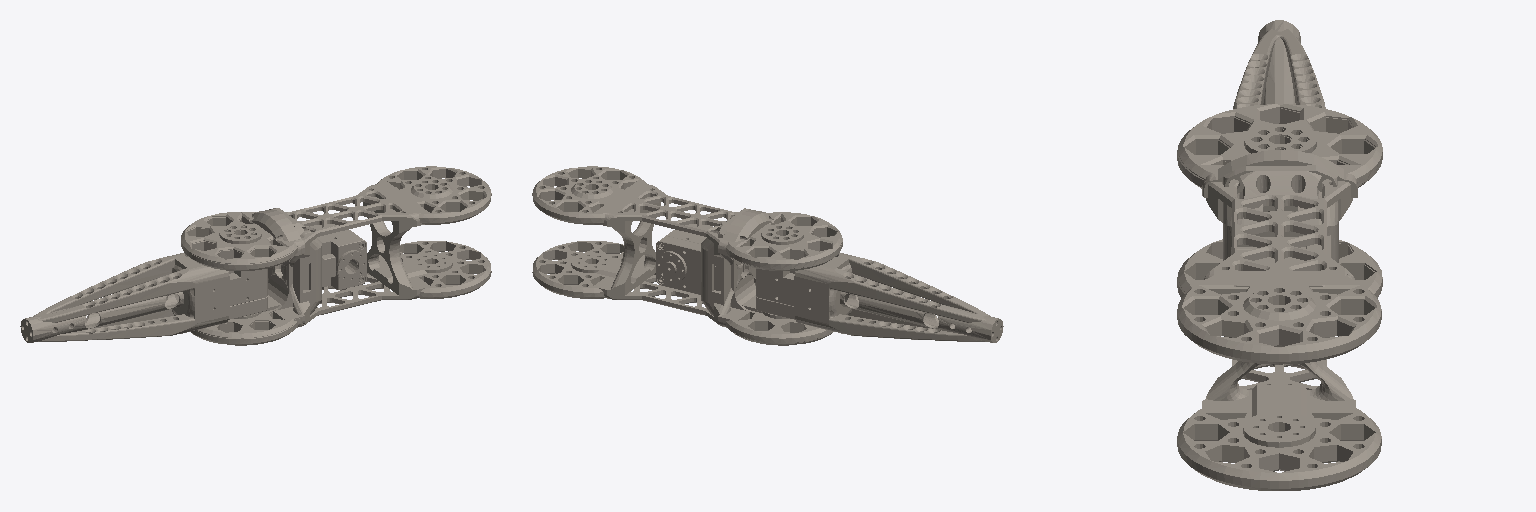
The robot description file, URDF, robot "Moonbot_1_urdf":
<?xml version="1.0" encoding="utf-8"?>

<robot
  name="Moonbot_1_urdf"
  xmlns:xacro="http://www.ros.org/wiki/xacro">
  <link
    name="base_link">
    <inertial>
      <origin
        xyz="4.4525E-06 -1.372E-05 0.015651"
        rpy="0 0 0" />
      <mass
        value="1.7613" />
      <inertia
        ixx="0.0022157"
        ixy="1.9729E-07"
        ixz="6.2687E-11"
        iyy="0.0022117"
        iyz="-1.9316E-10"
        izz="0.0037074" />
    </inertial>
    <visual>
      <origin
        xyz="0 0 0"
        rpy="0 0 0" />
      <geometry>
        <mesh
          filename="package://rviz_custom/base_link.STL" />
      </geometry>
      <material
        name="">
        <color
          rgba="0.64706 0.61961 0.58431 1" />
      </material>
    </visual>
    <collision>
      <origin
        xyz="0 0 0"
        rpy="0 0 0" />
      <geometry>
        <mesh
          filename="package://rviz_custom/base_link.STL" />
      </geometry>
    </collision>
  </link>
  <link
    name="Leg1_Link1">
    <inertial>
      <origin
        xyz="-0.16164 -0.16206 0.0078727"
        rpy="0 0 0" />
      <mass
        value="0.19524" />
      <inertia
        ixx="0.00013212"
        ixy="-2.569E-05"
        ixz="3.8551E-10"
        iyy="0.00013211"
        iyz="4.1271E-10"
        izz="0.00012874" />
    </inertial>
    <visual>
      <origin
        xyz="0 0 0"
        rpy="0 0 0" />
      <geometry>
        <mesh
          filename="package://rviz_custom/Leg1_Link1.STL" />
      </geometry>
      <material
        name="">
        <color
          rgba="0.64706 0.61961 0.58431 1" />
      </material>
    </visual>
    <collision>
      <origin
        xyz="0 0 0"
        rpy="0 0 0" />
      <geometry>
        <mesh
          filename="package://rviz_custom/Leg1_Link1.STL" />
      </geometry>
    </collision>
  </link>
  <joint
    name="Leg1_Joint1"
    type="revolute">
    <origin
      xyz="0 0 0"
      rpy="0 0 0" />
    <parent
      link="base_link" />
    <child
      link="Leg1_Link1" />
    <axis
      xyz="0 0 -1" />
    <limit
      lower="-1.57"
      upper="1.57"
      effort="200"
      velocity="3" />
  </joint>
  <link
    name="Leg1_Link2">
    <inertial>
      <origin
        xyz="-0.20029 -0.19993 -0.0487"
        rpy="0 0 0" />
      <mass
        value="0.2225" />
      <inertia
        ixx="0.00024185"
        ixy="1.6469E-05"
        ixz="2.7889E-10"
        iyy="0.00024185"
        iyz="-2.7889E-10"
        izz="0.00016006" />
    </inertial>
    <visual>
      <origin
        xyz="0 0 0"
        rpy="0 0 0" />
      <geometry>
        <mesh
          filename="package://rviz_custom/Leg1_Link2.STL" />
      </geometry>
      <material
        name="">
        <color
          rgba="0.64706 0.61961 0.58431 1" />
      </material>
    </visual>
    <collision>
      <origin
        xyz="0 0 0"
        rpy="0 0 0" />
      <geometry>
        <mesh
          filename="package://rviz_custom/Leg1_Link2.STL" />
      </geometry>
    </collision>
  </link>
  <joint
    name="Leg1_Joint2"
    type="revolute">
    <origin
      xyz="0 0 0"
      rpy="0 0 0" />
    <parent
      link="Leg1_Link1" />
    <child
      link="Leg1_Link2" />
    <axis
      xyz="0.70711 -0.70711 0" />
    <limit
      lower="-1.57"
      upper="1.57"
      effort="200"
      velocity="3" />
  </joint>
  <link
    name="Leg1_Link3">
    <inertial>
      <origin
        xyz="-0.19985 -0.20037 -0.14553"
        rpy="0 0 0" />
      <mass
        value="0.14207" />
      <inertia
        ixx="4.5915E-05"
        ixy="-5.5477E-06"
        ixz="-6.9185E-10"
        iyy="4.5915E-05"
        iyz="1.1922E-09"
        izz="5.1594E-05" />
    </inertial>
    <visual>
      <origin
        xyz="0 0 0"
        rpy="0 0 0" />
      <geometry>
        <mesh
          filename="package://rviz_custom/Leg1_Link3.STL" />
      </geometry>
      <material
        name="">
        <color
          rgba="0.64706 0.61961 0.58431 1" />
      </material>
    </visual>
    <collision>
      <origin
        xyz="0 0 0"
        rpy="0 0 0" />
      <geometry>
        <mesh
          filename="package://rviz_custom/Leg1_Link3.STL" />
      </geometry>
    </collision>
  </link>
  <joint
    name="Leg1_Joint3"
    type="revolute">
    <origin
      xyz="0 0 0"
      rpy="0 0 0" />
    <parent
      link="Leg1_Link2" />
    <child
      link="Leg1_Link3" />
    <axis
      xyz="0.70711 -0.70711 0" />
    <limit
      lower="-1.57"
      upper="1.57"
      effort="200"
      velocity="3" />
  </joint>
  <link
    name="Leg2_Link1">
    <inertial>
      <origin
        xyz="-0.16206 0.16164 0.0078727"
        rpy="0 0 0" />
      <mass
        value="0.19524" />
      <inertia
        ixx="0.00013211"
        ixy="2.569E-05"
        ixz="4.1271E-10"
        iyy="0.00013212"
        iyz="-3.8551E-10"
        izz="0.00012874" />
    </inertial>
    <visual>
      <origin
        xyz="0 0 0"
        rpy="0 0 0" />
      <geometry>
        <mesh
          filename="package://rviz_custom/Leg2_Link1.STL" />
      </geometry>
      <material
        name="">
        <color
          rgba="0.64706 0.61961 0.58431 1" />
      </material>
    </visual>
    <collision>
      <origin
        xyz="0 0 0"
        rpy="0 0 0" />
      <geometry>
        <mesh
          filename="package://rviz_custom/Leg2_Link1.STL" />
      </geometry>
    </collision>
  </link>
  <joint
    name="Leg2_Joint1"
    type="revolute">
    <origin
      xyz="0 0 0"
      rpy="0 0 0" />
    <parent
      link="base_link" />
    <child
      link="Leg2_Link1" />
    <axis
      xyz="0 0 -1" />
    <limit
      lower="-1.57"
      upper="1.57"
      effort="200"
      velocity="3" />
  </joint>
  <link
    name="Leg2_Link2">
    <inertial>
      <origin
        xyz="-0.19993 0.20029 -0.0487"
        rpy="0 0 0" />
      <mass
        value="0.2225" />
      <inertia
        ixx="0.00024185"
        ixy="-1.6469E-05"
        ixz="-3.0519E-10"
        iyy="0.00024185"
        iyz="3.0519E-10"
        izz="0.00016006" />
    </inertial>
    <visual>
      <origin
        xyz="0 0 0"
        rpy="0 0 0" />
      <geometry>
        <mesh
          filename="package://rviz_custom/Leg2_Link2.STL" />
      </geometry>
      <material
        name="">
        <color
          rgba="0.64706 0.61961 0.58431 1" />
      </material>
    </visual>
    <collision>
      <origin
        xyz="0 0 0"
        rpy="0 0 0" />
      <geometry>
        <mesh
          filename="package://rviz_custom/Leg2_Link2.STL" />
      </geometry>
    </collision>
  </link>
  <joint
    name="Leg2_Joint2"
    type="revolute">
    <origin
      xyz="0 0 0"
      rpy="0 0 0" />
    <parent
      link="Leg2_Link1" />
    <child
      link="Leg2_Link2" />
    <axis
      xyz="0.70711 0.70711 0" />
    <limit
      lower="-1.57"
      upper="1.57"
      effort="200"
      velocity="3" />
  </joint>
  <link
    name="Leg2_Link3">
    <inertial>
      <origin
        xyz="-0.20037 0.19985 -0.14553"
        rpy="0 0 0" />
      <mass
        value="0.14207" />
      <inertia
        ixx="4.5915E-05"
        ixy="5.5477E-06"
        ixz="1.1923E-09"
        iyy="4.5915E-05"
        iyz="6.9184E-10"
        izz="5.1594E-05" />
    </inertial>
    <visual>
      <origin
        xyz="0 0 0"
        rpy="0 0 0" />
      <geometry>
        <mesh
          filename="package://rviz_custom/Leg2_Link3.STL" />
      </geometry>
      <material
        name="">
        <color
          rgba="0.64706 0.61961 0.58431 1" />
      </material>
    </visual>
    <collision>
      <origin
        xyz="0 0 0"
        rpy="0 0 0" />
      <geometry>
        <mesh
          filename="package://rviz_custom/Leg2_Link3.STL" />
      </geometry>
    </collision>
  </link>
  <joint
    name="Leg2_joint3"
    type="revolute">
    <origin
      xyz="0 0 0"
      rpy="0 0 0" />
    <parent
      link="Leg2_Link2" />
    <child
      link="Leg2_Link3" />
    <axis
      xyz="0.70711 0.70711 0" />
    <limit
      lower="-1.57"
      upper="1.57"
      effort="200"
      velocity="3" />
  </joint>
  <link
    name="Leg3_Link1">
    <inertial>
      <origin
        xyz="0.16181 -0.16189 0.0078731"
        rpy="0 0 0" />
      <mass
        value="0.19524" />
      <inertia
        ixx="0.00013212"
        ixy="2.569E-05"
        ixz="3.8551E-10"
        iyy="0.00013211"
        iyz="-4.1271E-10"
        izz="0.00012874" />
    </inertial>
    <visual>
      <origin
        xyz="0 0 0"
        rpy="0 0 0" />
      <geometry>
        <mesh
          filename="package://rviz_custom/Leg3_Link1.STL" />
      </geometry>
      <material
        name="">
        <color
          rgba="0.64706 0.61961 0.58431 1" />
      </material>
    </visual>
    <collision>
      <origin
        xyz="0 0 0"
        rpy="0 0 0" />
      <geometry>
        <mesh
          filename="package://rviz_custom/Leg3_Link1.STL" />
      </geometry>
    </collision>
  </link>
  <joint
    name="Leg3_Joint1"
    type="revolute">
    <origin
      xyz="0 0 0"
      rpy="0 0 0" />
    <parent
      link="base_link" />
    <child
      link="Leg3_Link1" />
    <axis
      xyz="0 0 -1" />
    <limit
      lower="-1.57"
      upper="1.57"
      effort="200"
      velocity="3" />
  </joint>
  <link
    name="Leg3_Link2">
    <inertial>
      <origin
        xyz="0.20046 -0.19976 -0.0487"
        rpy="0 0 0" />
      <mass
        value="0.2225" />
      <inertia
        ixx="0.00024185"
        ixy="-1.6469E-05"
        ixz="-3.0519E-10"
        iyy="0.00024185"
        iyz="3.0519E-10"
        izz="0.00016006" />
    </inertial>
    <visual>
      <origin
        xyz="0 0 0"
        rpy="0 0 0" />
      <geometry>
        <mesh
          filename="package://rviz_custom/Leg3_Link2.STL" />
      </geometry>
      <material
        name="">
        <color
          rgba="0.64706 0.61961 0.58431 1" />
      </material>
    </visual>
    <collision>
      <origin
        xyz="0 0 0"
        rpy="0 0 0" />
      <geometry>
        <mesh
          filename="package://rviz_custom/Leg3_Link2.STL" />
      </geometry>
    </collision>
  </link>
  <joint
    name="Leg3_Joint2"
    type="revolute">
    <origin
      xyz="0 0 0"
      rpy="0 0 0" />
    <parent
      link="Leg3_Link1" />
    <child
      link="Leg3_Link2" />
    <axis
      xyz="0.70711 0.70711 0" />
    <limit
      lower="-1.57"
      upper="1.57"
      effort="200"
      velocity="3" />
  </joint>
  <link
    name="Leg3_Link3">
    <inertial>
      <origin
        xyz="0.2009 -0.19932 -0.14553"
        rpy="0 0 0" />
      <mass
        value="0.14207" />
      <inertia
        ixx="4.5915E-05"
        ixy="5.5477E-06"
        ixz="-1.1923E-09"
        iyy="4.5915E-05"
        iyz="-6.9184E-10"
        izz="5.1594E-05" />
    </inertial>
    <visual>
      <origin
        xyz="0 0 0"
        rpy="0 0 0" />
      <geometry>
        <mesh
          filename="package://rviz_custom/Leg3_Link3.STL" />
      </geometry>
      <material
        name="">
        <color
          rgba="0.64706 0.61961 0.58431 1" />
      </material>
    </visual>
    <collision>
      <origin
        xyz="0 0 0"
        rpy="0 0 0" />
      <geometry>
        <mesh
          filename="package://rviz_custom/Leg3_Link3.STL" />
      </geometry>
    </collision>
  </link>
  <joint
    name="Leg3_Joint3"
    type="revolute">
    <origin
      xyz="0 0 0"
      rpy="0 0 0" />
    <parent
      link="Leg3_Link2" />
    <child
      link="Leg3_Link3" />
    <axis
      xyz="0.70711 0.70711 0" />
    <limit
      lower="-1.57"
      upper="1.57"
      effort="200"
      velocity="3" />
  </joint>
  <link
    name="Leg4_Link1">
    <inertial>
      <origin
        xyz="4.4525E-06 -1.372E-05 0.015651"
        rpy="0 0 0" />
      <mass
        value="1.7613" />
      <inertia
        ixx="0.0022157"
        ixy="1.9729E-07"
        ixz="6.2687E-11"
        iyy="0.0022117"
        iyz="-1.9316E-10"
        izz="0.0037074" />
    </inertial>
    <visual>
      <origin
        xyz="0 0 0"
        rpy="0 0 0" />
      <geometry>
        <mesh
          filename="package://rviz_custom/Leg4_Link1.STL" />
      </geometry>
      <material
        name="">
        <color
          rgba="0.64706 0.61961 0.58431 1" />
      </material>
    </visual>
    <collision>
      <origin
        xyz="0 0 0"
        rpy="0 0 0" />
      <geometry>
        <mesh
          filename="package://rviz_custom/Leg4_Link1.STL" />
      </geometry>
    </collision>
  </link>
  <joint
    name="Leg4_Joint1"
    type="revolute">
    <origin
      xyz="0 0 0"
      rpy="0 0 0" />
    <parent
      link="base_link" />
    <child
      link="Leg4_Link1" />
    <axis
      xyz="0 0 -1" />
    <limit
      lower="-1.57"
      upper="1.57"
      effort="200"
      velocity="3" />
  </joint>
  <link
    name="Leg4_Link2">
    <inertial>
      <origin
        xyz="0.20029 0.19993 -0.0487"
        rpy="0 0 0" />
      <mass
        value="0.2225" />
      <inertia
        ixx="0.00024185"
        ixy="1.6469E-05"
        ixz="-3.0519E-10"
        iyy="0.00024185"
        iyz="-3.0519E-10"
        izz="0.00016006" />
    </inertial>
    <visual>
      <origin
        xyz="0 0 0"
        rpy="0 0 0" />
      <geometry>
        <mesh
          filename="package://rviz_custom/Leg4_Link2.STL" />
      </geometry>
      <material
        name="">
        <color
          rgba="0.64706 0.61961 0.58431 1" />
      </material>
    </visual>
    <collision>
      <origin
        xyz="0 0 0"
        rpy="0 0 0" />
      <geometry>
        <mesh
          filename="package://rviz_custom/Leg4_Link2.STL" />
      </geometry>
    </collision>
  </link>
  <joint
    name="LEg4_Joint2"
    type="revolute">
    <origin
      xyz="0 0 0"
      rpy="0 0 0" />
    <parent
      link="Leg4_Link1" />
    <child
      link="Leg4_Link2" />
    <axis
      xyz="-0.70711 0.70711 0" />
    <limit
      lower="-1.57"
      upper="1.57"
      effort="200"
      velocity="3" />
  </joint>
  <link
    name="Leg4_Link3">
    <inertial>
      <origin
        xyz="0.19985 0.20037 -0.14553"
        rpy="0 0 0" />
      <mass
        value="0.14207" />
      <inertia
        ixx="4.5915E-05"
        ixy="-5.5477E-06"
        ixz="6.9186E-10"
        iyy="4.5915E-05"
        iyz="-1.1923E-09"
        izz="5.1594E-05" />
    </inertial>
    <visual>
      <origin
        xyz="0 0 0"
        rpy="0 0 0" />
      <geometry>
        <mesh
          filename="package://rviz_custom/Leg4_Link3.STL" />
      </geometry>
      <material
        name="">
        <color
          rgba="0.64706 0.61961 0.58431 1" />
      </material>
    </visual>
    <collision>
      <origin
        xyz="0 0 0"
        rpy="0 0 0" />
      <geometry>
        <mesh
          filename="package://rviz_custom/Leg4_Link3.STL" />
      </geometry>
    </collision>
  </link>
  <joint
    name="Leg4_Joint3"
    type="revolute">
    <origin
      xyz="0 0 0"
      rpy="0 0 0" />
    <parent
      link="Leg4_Link2" />
    <child
      link="Leg4_Link3" />
    <axis
      xyz="-0.70711 0.70711 0" />
    <limit
      lower="-1.57"
      upper="1.57"
      effort="200"
      velocity="3" />
  </joint>
</robot>

--- What the picture shows (computed from the rendered views, not written in the file) ---
3 views of the same robot in one strip: view 1: azimuth 30°, elevation 25°; view 2: azimuth 150°, elevation 25°; view 3: azimuth 270°, elevation 25° (orthographic).
Model Moonbot_1_urdf with 13 links and 12 joints (12 revolute), rooted at base_link, posed all joints at 0.
Links seen in each view (by area): view 1: Leg4_Link2, Leg4_Link3, Leg4_Link1; view 2: Leg4_Link2, Leg4_Link3, Leg4_Link1; view 3: Leg4_Link2, Leg4_Link1, Leg4_Link3.
Link boxes in pixels (bbox=[...]): Leg4_Link2: bbox=[181, 166, 491, 345]; Leg4_Link3: bbox=[20, 253, 267, 342]; Leg4_Link1: bbox=[181, 208, 366, 338]; Leg4_Link2: bbox=[532, 166, 842, 345]; Leg4_Link3: bbox=[756, 251, 1003, 342]; Leg4_Link1: bbox=[656, 208, 841, 342]; Leg4_Link2: bbox=[1177, 108, 1381, 490]; Leg4_Link1: bbox=[1178, 104, 1382, 346]; Leg4_Link3: bbox=[1233, 20, 1325, 108].
Bounding box of the posed robot: 0.3088 × 0.0704 × 0.07 m (x, y, z).
3 mesh visuals loaded from 13 distinct referenced files (3 binary STL); not drawn: 10 (reference not matched to a file when rendering).